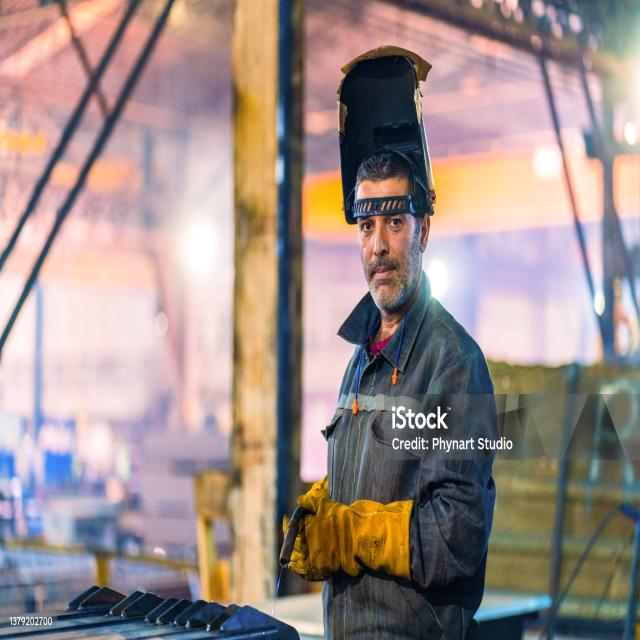helmet_lifted: (338, 47, 445, 307)
